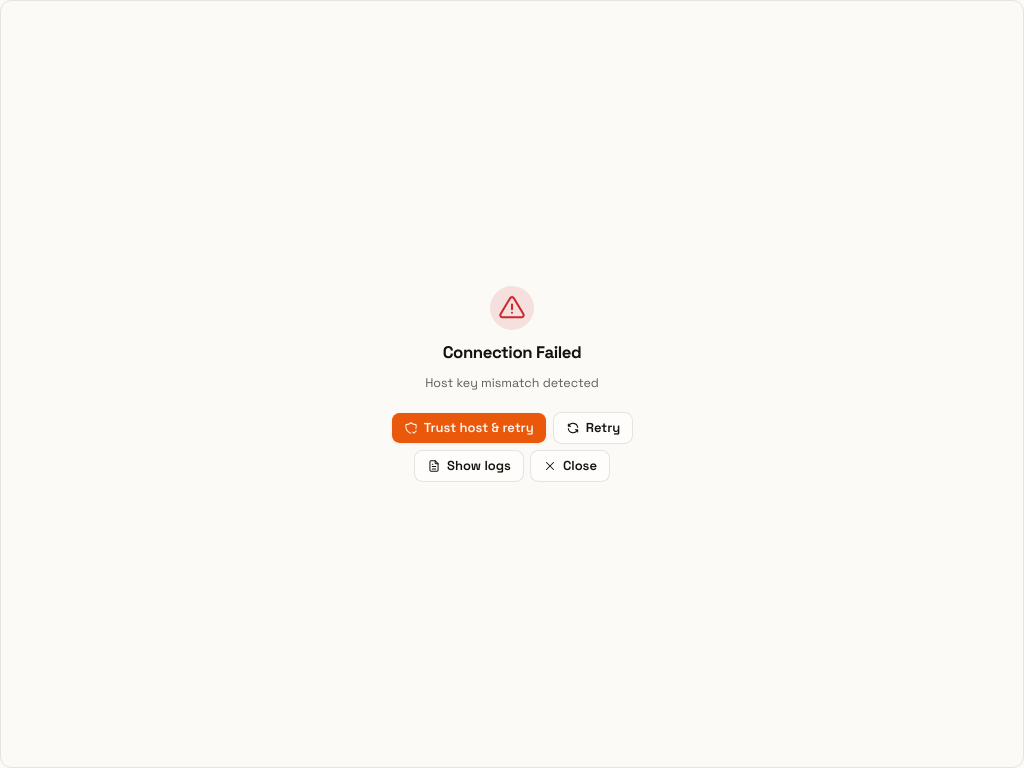
Test: dialogs and overlays › ConnectionOverlay › renders error variant with logs and trust host button
The image size is (1024, 768).
Expected: the text "Connection Failed" is shown, [443, 340, 581, 365]
Click the button "Trust host & retry".
click(469, 428)  # box [391, 412, 547, 444]
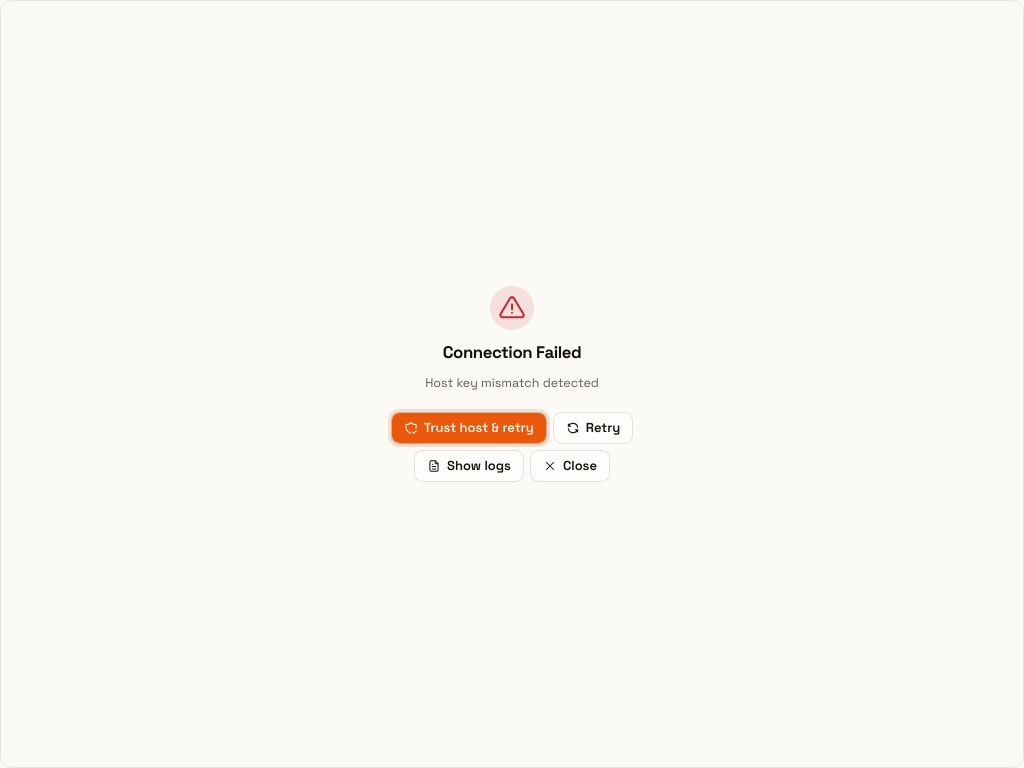
Click the button "Show logs".
click(469, 466)  # box [414, 450, 524, 482]
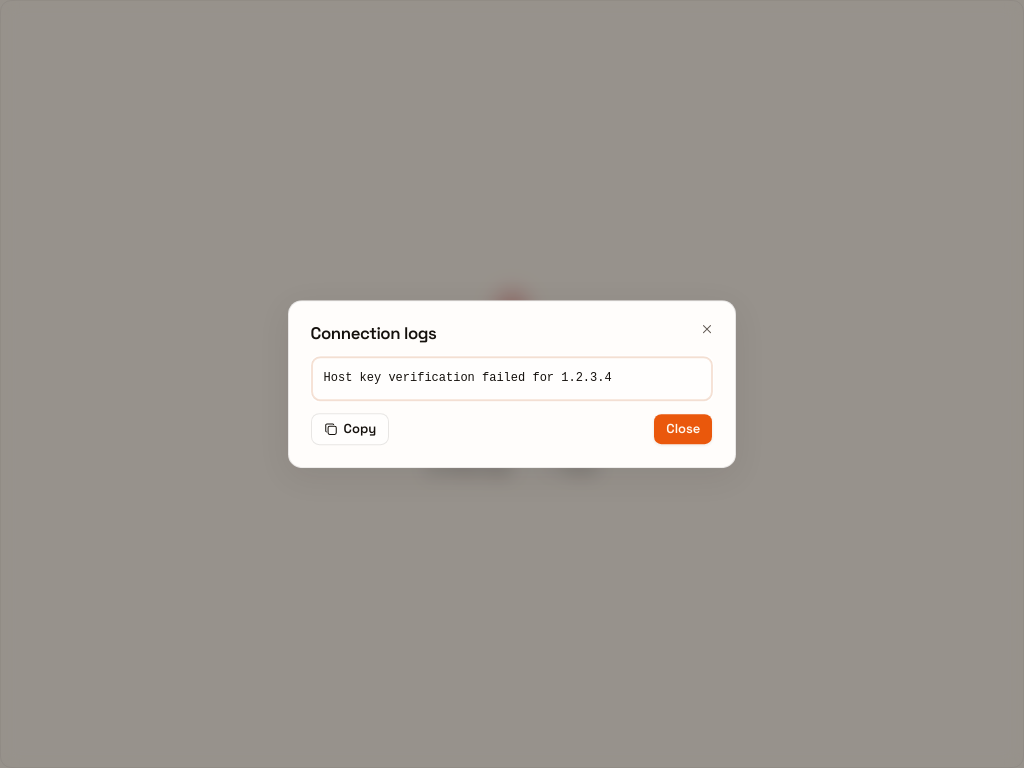
Result: the heading "Connection logs" is shown at [311, 323, 436, 344]
Result: the text "Host key verification failed for 1.2.3.4" is shown at [311, 356, 713, 401]
